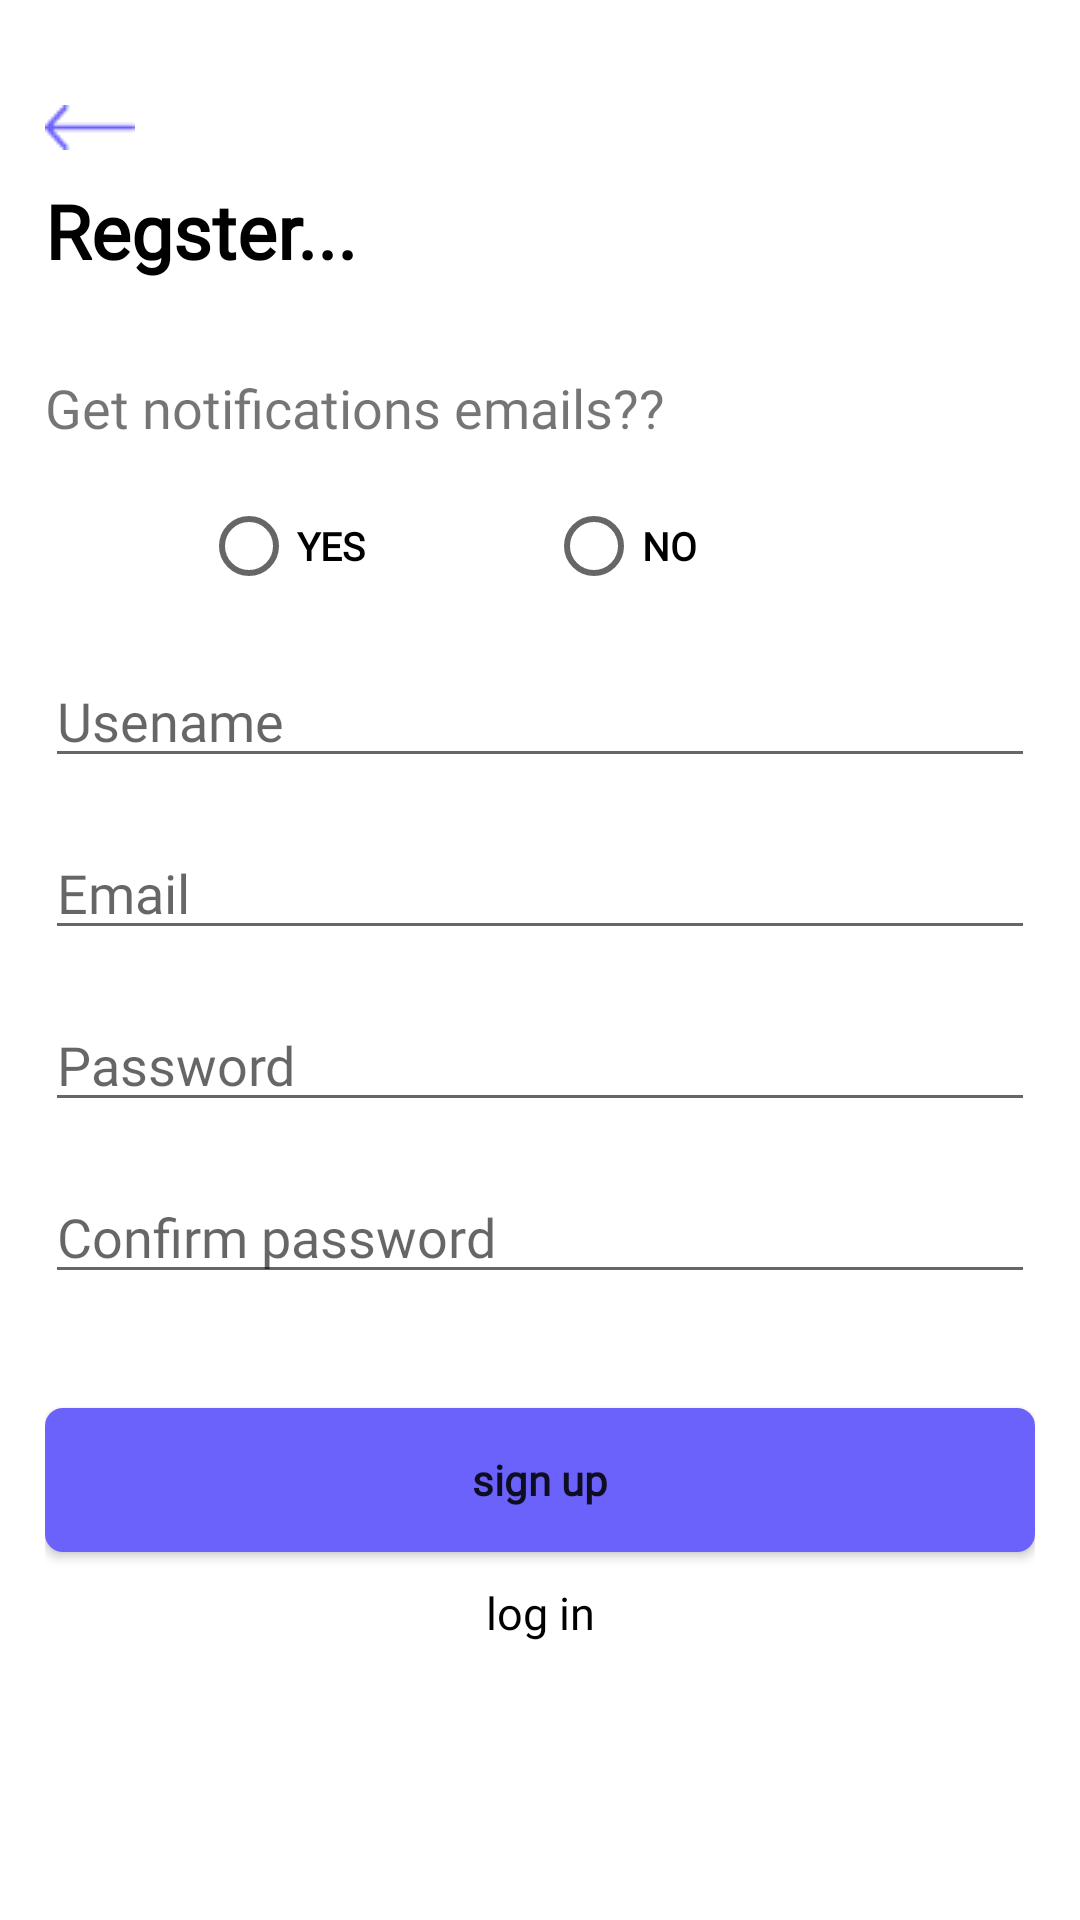

Named icons in this screenshot (1080×1920) and their centers, (x=x, y=y):
back arrow: (x=90, y=127)
